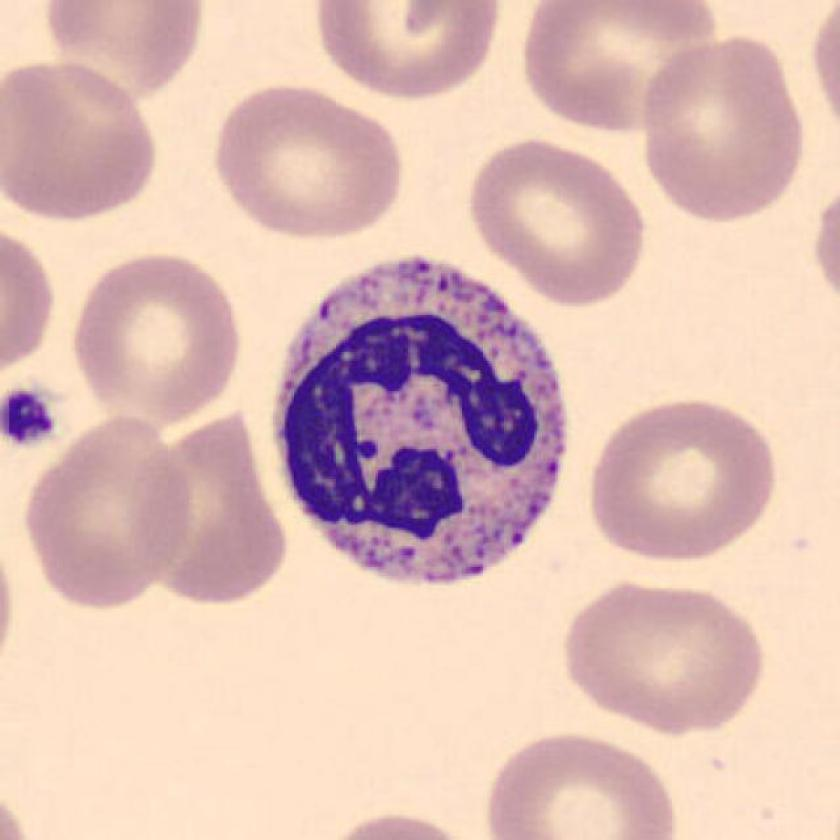neutrophil: (277, 261, 566, 588)
